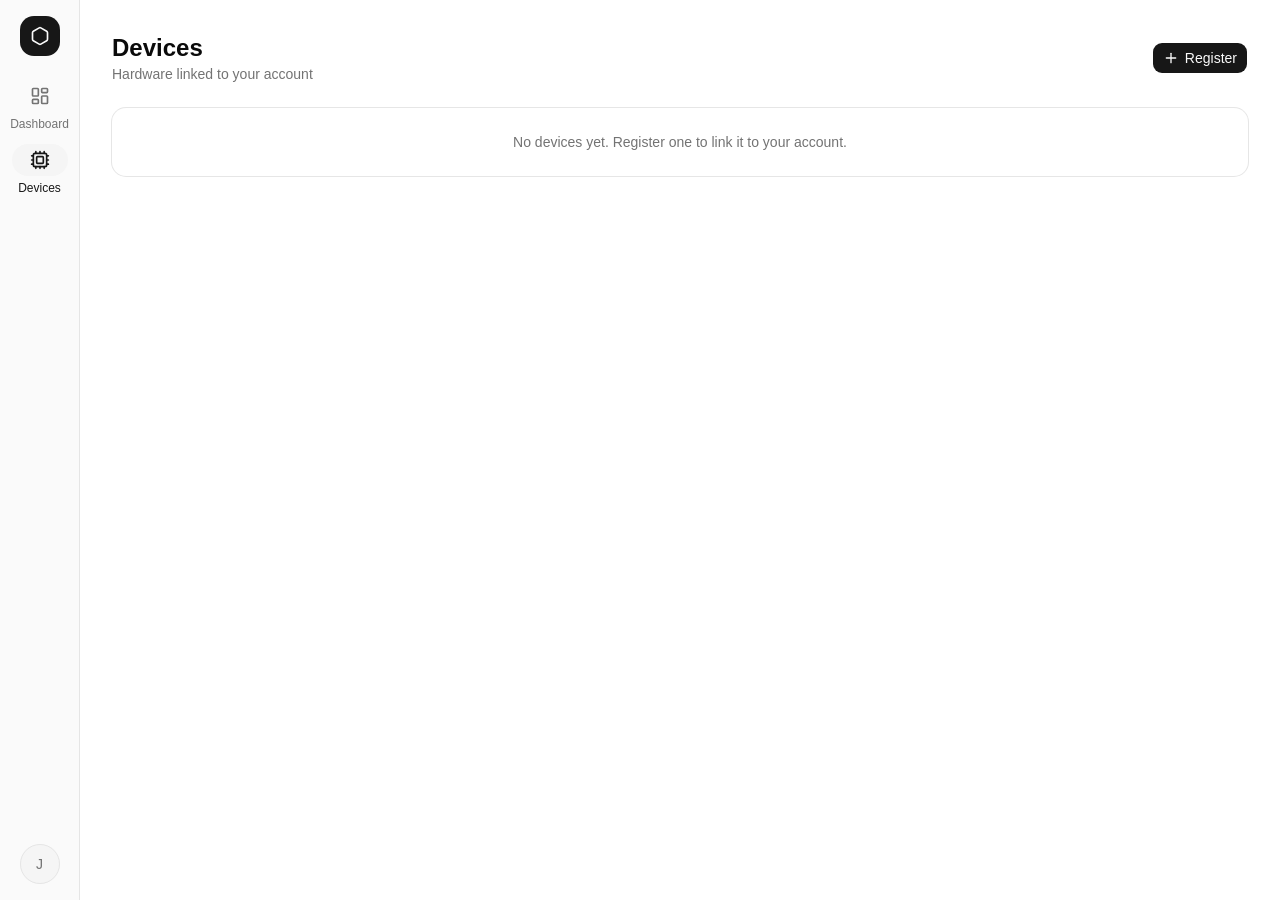
Test case: devices › reports a failure to issue a code
What coordinates should you click on to do the following:
click the button "Register"
I would click on:
 (1200, 58)
Its box is [1152, 42, 1248, 74].
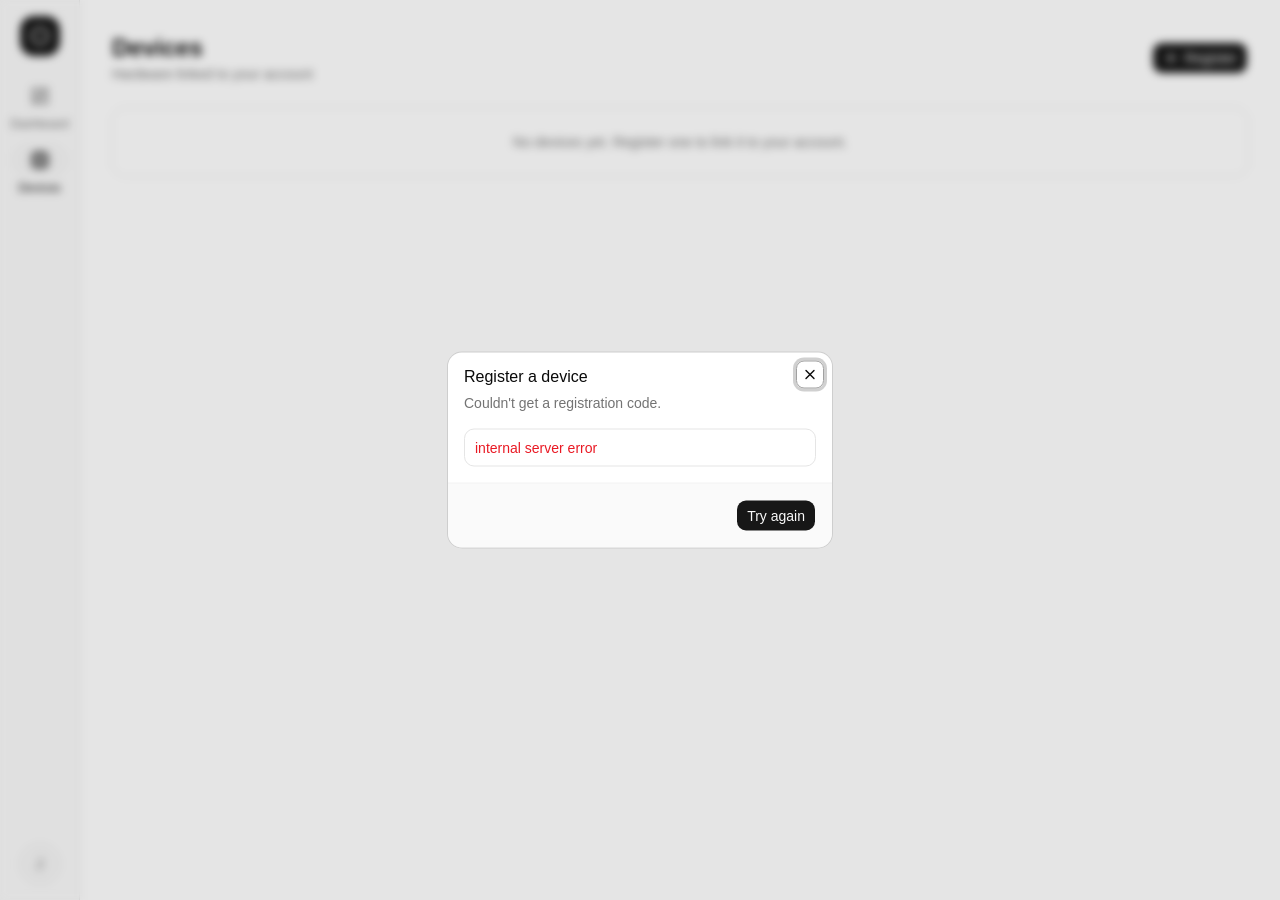
Now the text "internal server error" is shown, box [475, 440, 597, 456]
Now the button "Try again" is shown, box [736, 500, 816, 532]
